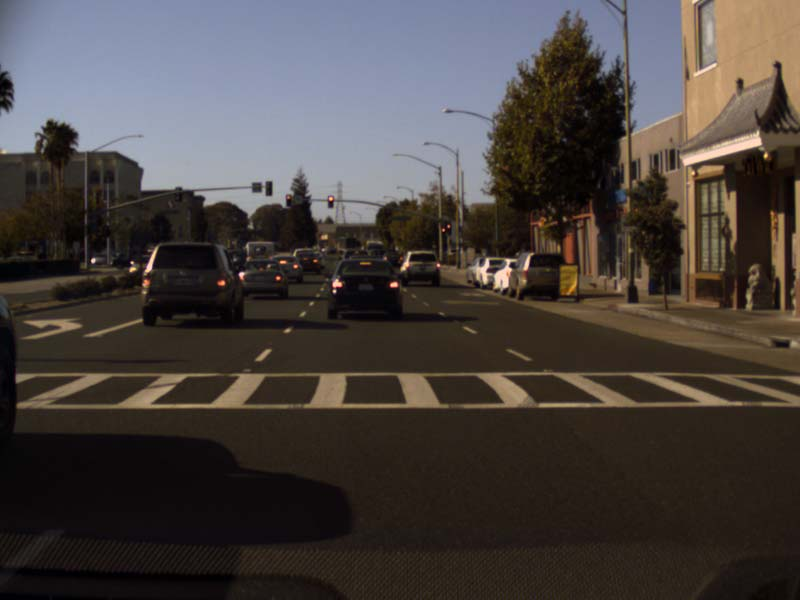Red: (327, 195, 333, 208), (286, 194, 291, 205), (446, 223, 451, 234), (441, 227, 445, 236)
